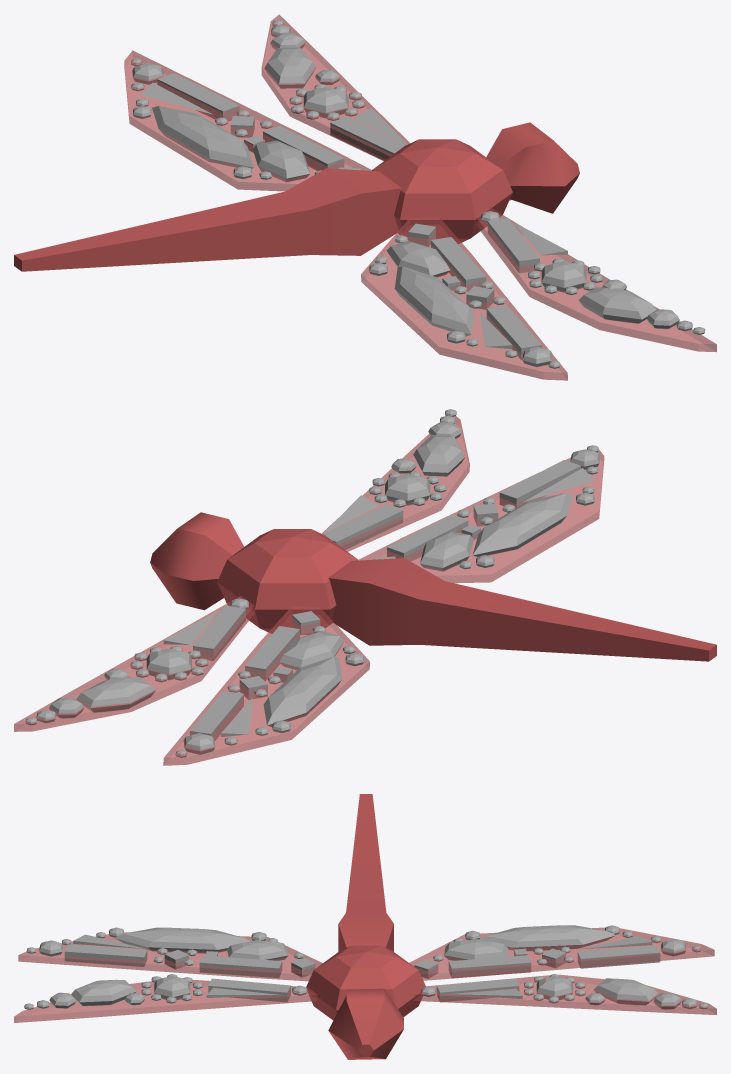
File: DragonflyBrooch.fbx
The picture shows the model from 3 angles, top to bottom: view 1: azimuth 30°, elevation 25°; view 2: azimuth 150°, elevation 25°; view 3: azimuth 270°, elevation 25°; orthographic projection. The views are drawn at different scales.
Visible parts, largest first — view 1: Tail, Chest, BackRight, BackLeft, Head, FrontRight, FrontLeft, pSphere46, pSphere37, pSphere27, pSphere60, pCube10 (+13 smaller); view 2: Tail, Chest, BackLeft, Head, BackRight, FrontLeft, pSphere37, pSphere46, FrontRight, pSphere28, pCube3, pSphere27 (+14 smaller); view 3: Chest, Tail, BackLeft, Head, FrontRight, FrontLeft, BackRight, pSphere46, pSphere37, pCube7, pCube10, pCube6 (+13 smaller).
Part boxes in pixels (x1,y1,x2,y2): Tail: (14,168,401,271); Chest: (372,139,512,243); BackRight: (361,217,567,380); BackLeft: (124,50,371,191); Head: (486,122,579,213); FrontRight: (475,207,716,352); FrontLeft: (261,14,409,160); pSphere46: (152,106,254,168); pSphere37: (394,266,474,336); pSphere27: (578,287,656,323); pSphere60: (252,140,310,182); pCube10: (157,73,239,121); Tail: (328,558,716,661); Chest: (217,529,358,634); BackLeft: (163,606,369,765); Head: (150,512,243,610); BackRight: (358,449,604,583); FrontLeft: (14,596,254,731); pSphere37: (472,493,572,556); pSphere46: (263,656,342,726); FrontRight: (322,416,469,551); pSphere28: (76,677,155,712); pCube3: (323,504,403,549); pSphere27: (413,435,464,476); Chest: (306,945,425,1020); Tail: (338,794,393,951); BackLeft: (409,927,714,980); Head: (328,988,403,1059); FrontRight: (14,980,318,1022); FrontLeft: (413,974,716,1014); BackRight: (18,932,322,981); pSphere46: (480,925,615,951); pSphere37: (114,927,249,953); pCube7: (64,944,147,966); pCube10: (577,945,660,968); pCube6: (199,955,282,977).
Size of the model in its own units: 8.54 by 1.32 by 11.61.
